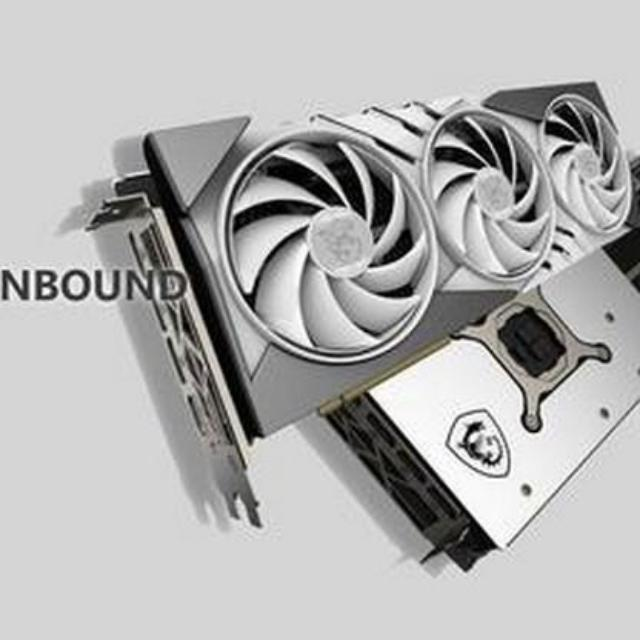GPU: (114, 71, 640, 426)
